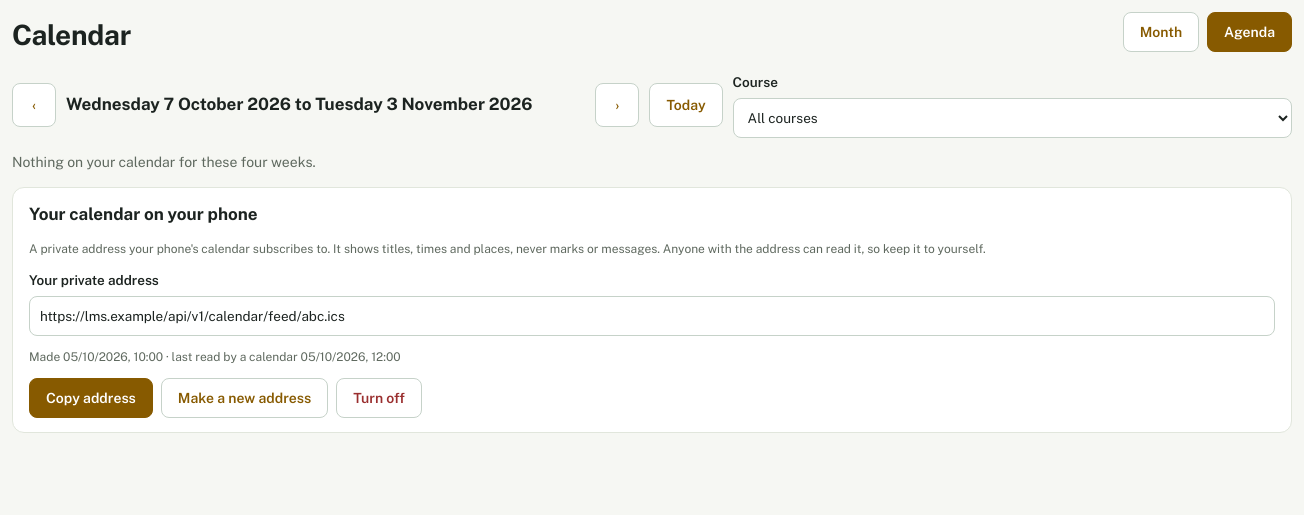
Test: the private calendar feed (item 2.32) › selects the address for copying by hand where there is no clipboard
Check: the text "last read by a calendar" is shown, box [163,350,400,364]
What coordinates should you click on to do the following:
click the button "Copy address"
I would click on:
 (91, 398)
Its box is [29,378,153,418].
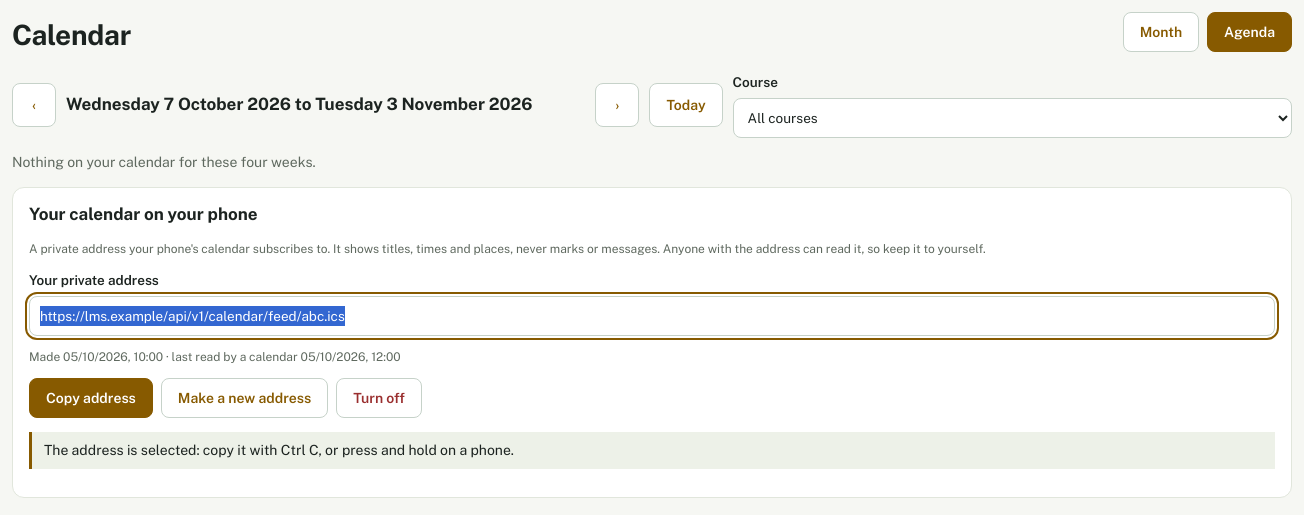
Check: the text "The address is selected: copy it with Ctrl C, or press and hold on a phone." is shown, box [29,432,1275,469]
